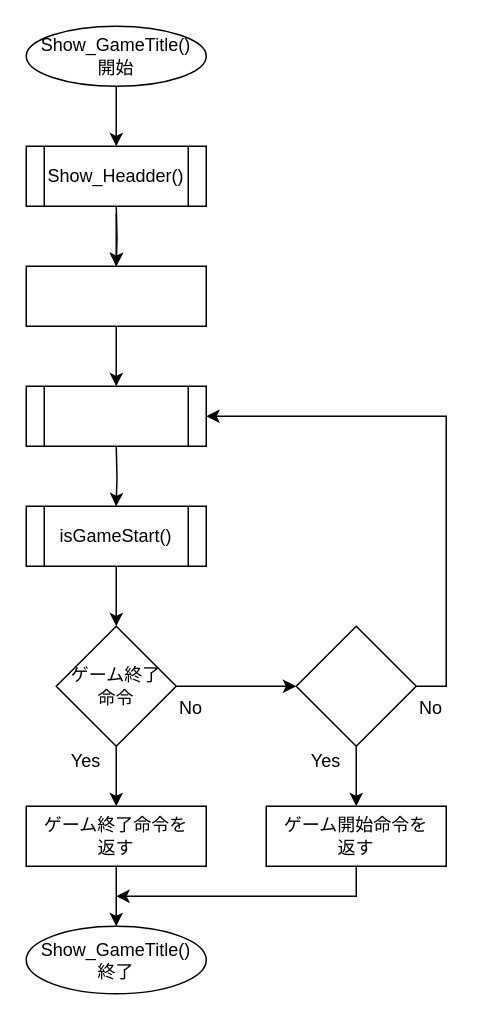
The diagram is 503 pixels wide and 1020 high, and some of its shapes have lost their labels. The shapes that lost their labels are listed below. From the top down, each one's centre as x and y in pixels, then its label:
the point at 115,295: ボディ部に ゲーム情報と 開始/終了誘導を表示
the point at 115,415: Get_Input()
the point at 355,685: ゲーム開始 命令
